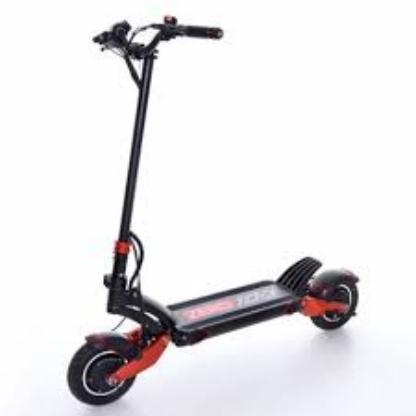bike: (66, 16, 361, 409), (66, 245, 360, 407)
